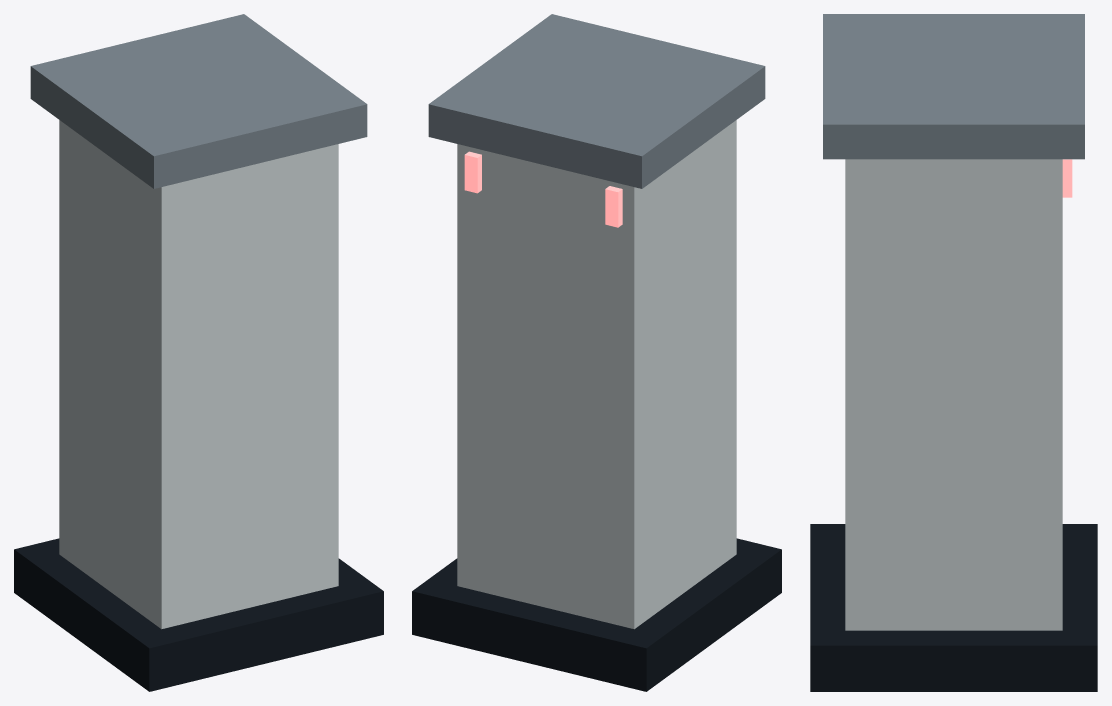
The model's file is np_z03_synthese_cuve.glb.
The picture shows the model from 3 angles, left to right: view 1: azimuth 30°, elevation 25°; view 2: azimuth 150°, elevation 25°; view 3: azimuth 270°, elevation 25°; orthographic projection. The views are drawn at different scales.
Parts seen in each view (by area): view 1: Corps, CadreHaut, Socle; view 2: Corps, CadreHaut, Socle, VoyantGauche, VoyantDroit; view 3: Corps, CadreHaut, Socle.
Boxes of the visible parts, x1,y1,x2,y2 form: Corps: (59,120,338,629); CadreHaut: (30,14,367,188); Socle: (14,538,383,691); Corps: (457,120,736,629); CadreHaut: (428,14,765,188); Socle: (412,538,781,691); VoyantGauche: (605,186,622,227); VoyantDroit: (464,151,481,193); Corps: (845,159,1062,630); CadreHaut: (823,14,1084,159); Socle: (810,524,1097,691).
Bounding box in the file's own units: 0.9 × 1.94 × 0.9.
